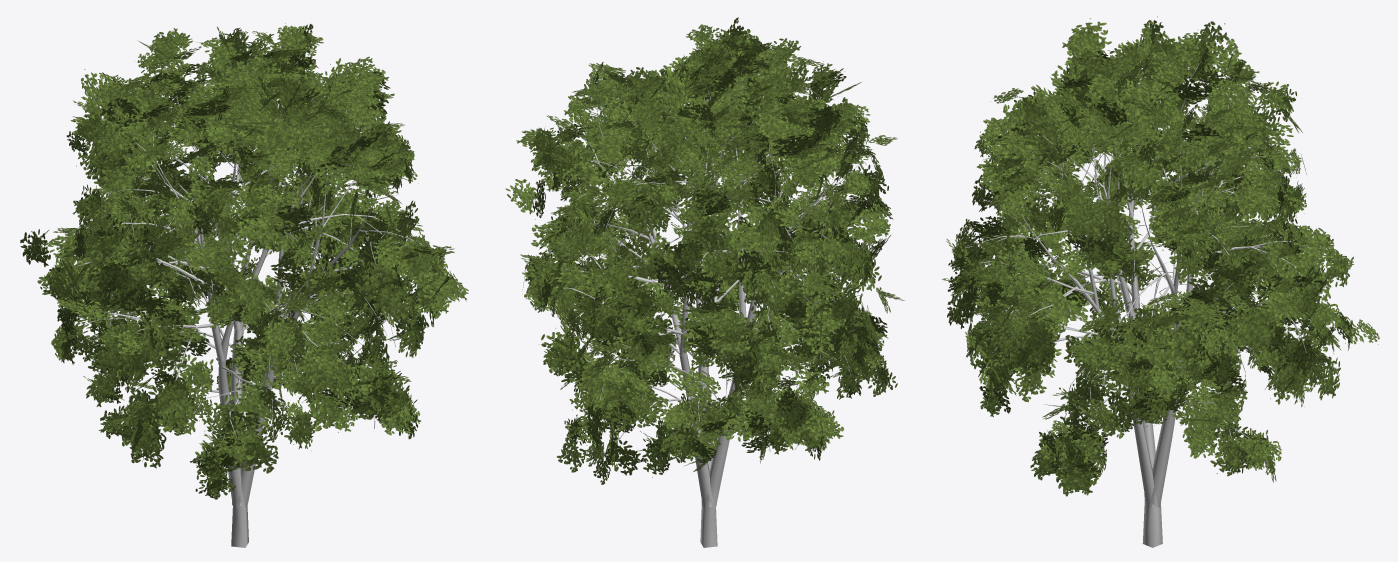
Rendered from ash_0.gltf.
3 views of the same model, side by side, from view 1: azimuth 30°, elevation 25°; view 2: azimuth 150°, elevation 25°; view 3: azimuth 270°, elevation 25° (orthographic). The views are drawn at different scales.
Visible parts, largest first — view 1: LOD0; view 2: LOD0; view 3: LOD0.
Part boxes in pixels (x1=…): LOD0: x1=20, y1=23, x2=468, y2=547; LOD0: x1=505, y1=17, x2=904, y2=547; LOD0: x1=942, y1=16, x2=1379, y2=547.
Size of what is drawn, in the model's own units: 13.47 by 18.38 by 14.77.
